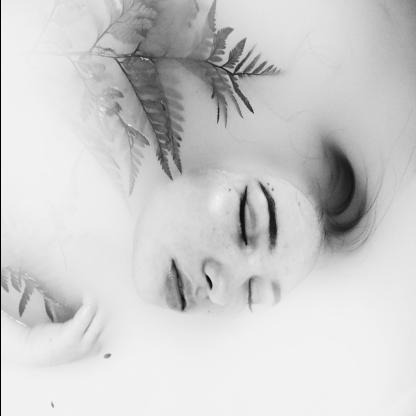Eye: (234, 186, 262, 258), (240, 274, 261, 312)
Mouth: (160, 258, 195, 320)
Nose: (200, 255, 250, 305)
